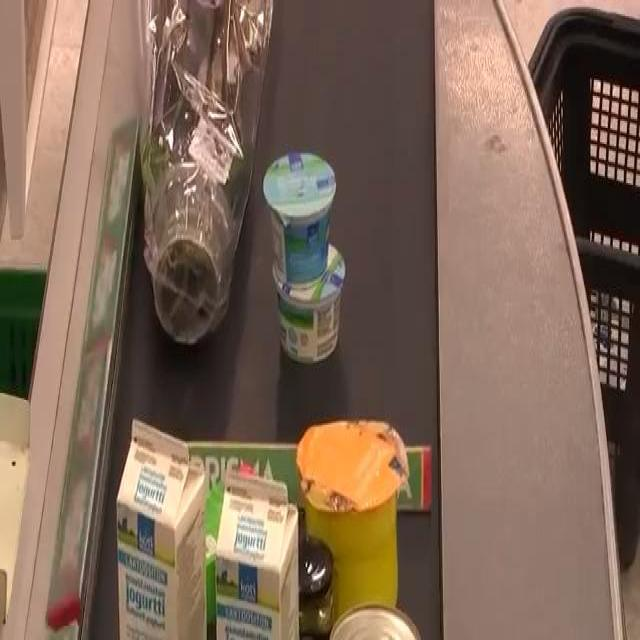beverage: (120, 428, 206, 640), (216, 469, 299, 640)
food-box: (300, 420, 403, 606), (269, 144, 334, 281), (280, 242, 346, 372)
utility-box: (138, 0, 251, 345)
